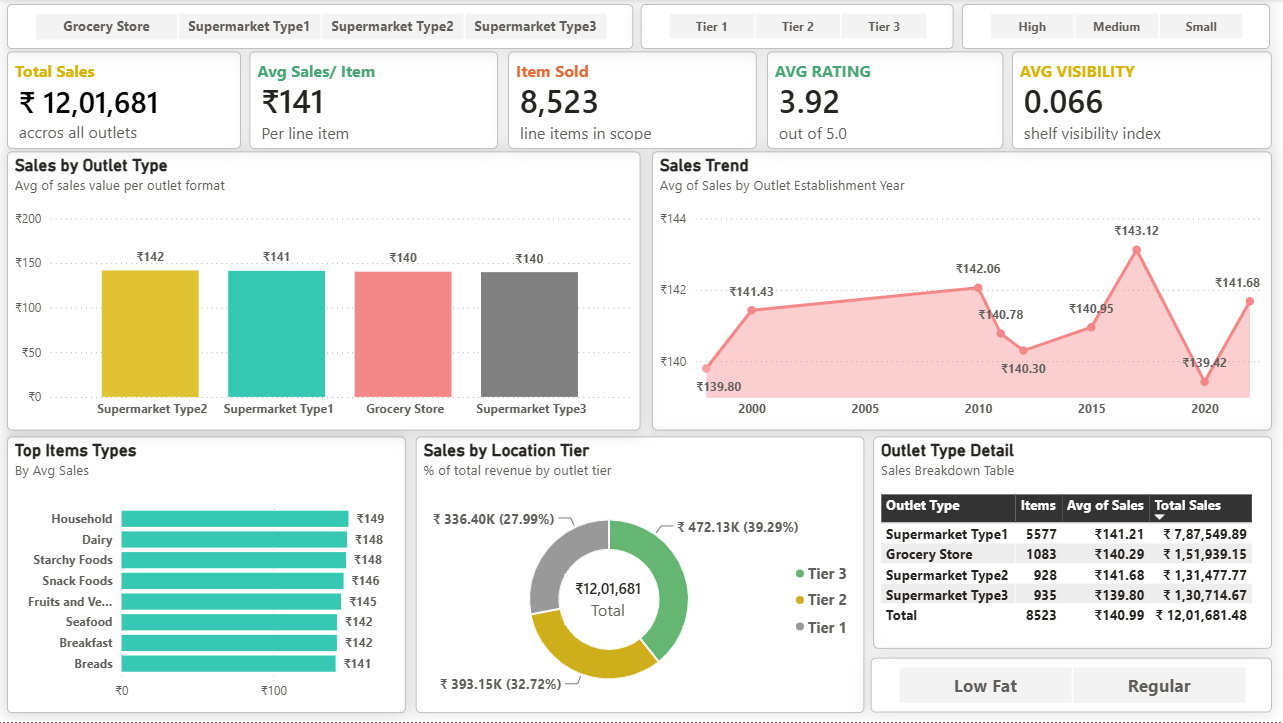

This screenshot's page, from the dashboard's own definition file:
{"tool":"powerbi","page":{"name":"Page 1","canvas":[1280,720],"ordinal":0},"visuals":[{"type":"barChart","title":"Top Items Types","fields":{"Category":["blinkit_data.Item Type"],"Y":["Avg(blinkit_data.Sales)"]},"box":[10,435.4,396.8,274.9],"z":0},{"type":"areaChart","title":"Sales Trend","fields":{"Y":["Avg(blinkit_data.Sales)"],"Category":["blinkit_data.Outlet Establishment Year"]},"box":[651.8,151.8,617,277.4],"z":1000},{"type":"pivotTable","title":"Outlet Type Detail","fields":{"Rows":["blinkit_data.Outlet Type"],"Values":["CountNonNull(blinkit_data.Item Type)","Avg(blinkit_data.Sales)","blinkit_data.Total Sales"]},"box":[872,435.4,396.8,211.5],"z":2000},{"type":"donutChart","title":"Sales by Location Tier","fields":{"Category":["blinkit_data.Outlet Location Type"],"Y":["blinkit_data.Total Sales"]},"box":[416.7,435.4,446.6,274.9],"z":3000},{"type":"columnChart","title":"Sales by Outlet Type","fields":{"Category":["blinkit_data.Outlet Type"],"Y":["Avg(blinkit_data.Sales)"]},"box":[10,152,630.7,277.4],"z":4000},{"type":"cardVisual","fields":{"Data":["blinkit_data.Total Sales"]},"box":[10,52,232.6,97],"z":5000},{"type":"cardVisual","fields":{"Data":["Avg(blinkit_data.Sales)"]},"box":[251.3,52.2,247.5,97],"z":6000},{"type":"cardVisual","fields":{"Data":["CountNonNull(blinkit_data.Item Identifier)"]},"box":[508.8,52.2,247.5,97],"z":7000},{"type":"cardVisual","fields":{"Data":["Avg(blinkit_data.Rating)"]},"box":[766.3,52.2,235.1,97],"z":8000},{"type":"cardVisual","fields":{"Data":["Avg(blinkit_data.Item Visibility)"]},"box":[1010.1,52.2,258.7,97],"z":9000},{"type":"slicer","fields":{"Values":["blinkit_data.Outlet Type"]},"box":[10,5,623.2,44.8],"z":10000},{"type":"slicer","fields":{"Values":["blinkit_data.Outlet Location Type"]},"box":[640.6,5,311,44.8],"z":11000},{"type":"slicer","fields":{"Values":["blinkit_data.Outlet Size"]},"box":[960.3,5,306,44.8],"z":12000},{"type":"slicer","fields":{"Values":["blinkit_data.Item Fat Content"]},"box":[869.5,655.6,399.3,54.7],"z":13000},{"type":"cardVisual","fields":{"Data":["Sum(blinkit_data.Sales)"]},"box":[565,572,87.1,50],"z":14000}]}

Visuals, with their boxes in screenshot pixels (x1, y1, x2, y2), scaled from the page's 1280x720 canvas onto the 1283x723 screenshot:
"Top Items Types" barChart: 10,437,408,713
"Sales Trend" areaChart: 653,152,1272,431
"Outlet Type Detail" pivotTable: 874,437,1272,650
"Sales by Location Tier" donutChart: 418,437,865,713
"Sales by Outlet Type" columnChart: 10,153,642,431
cardVisual - blinkit_data.Total Sales: 10,52,243,150
cardVisual - Avg(blinkit_data.Sales): 252,52,500,150
cardVisual - CountNonNull(blinkit_data.Item Identifier): 510,52,758,150
cardVisual - Avg(blinkit_data.Rating): 768,52,1004,150
cardVisual - Avg(blinkit_data.Item Visibility): 1012,52,1272,150
slicer - blinkit_data.Outlet Type: 10,5,635,50
slicer - blinkit_data.Outlet Location Type: 642,5,954,50
slicer - blinkit_data.Outlet Size: 963,5,1269,50
slicer - blinkit_data.Item Fat Content: 872,658,1272,713
cardVisual - Sum(blinkit_data.Sales): 566,574,654,625
